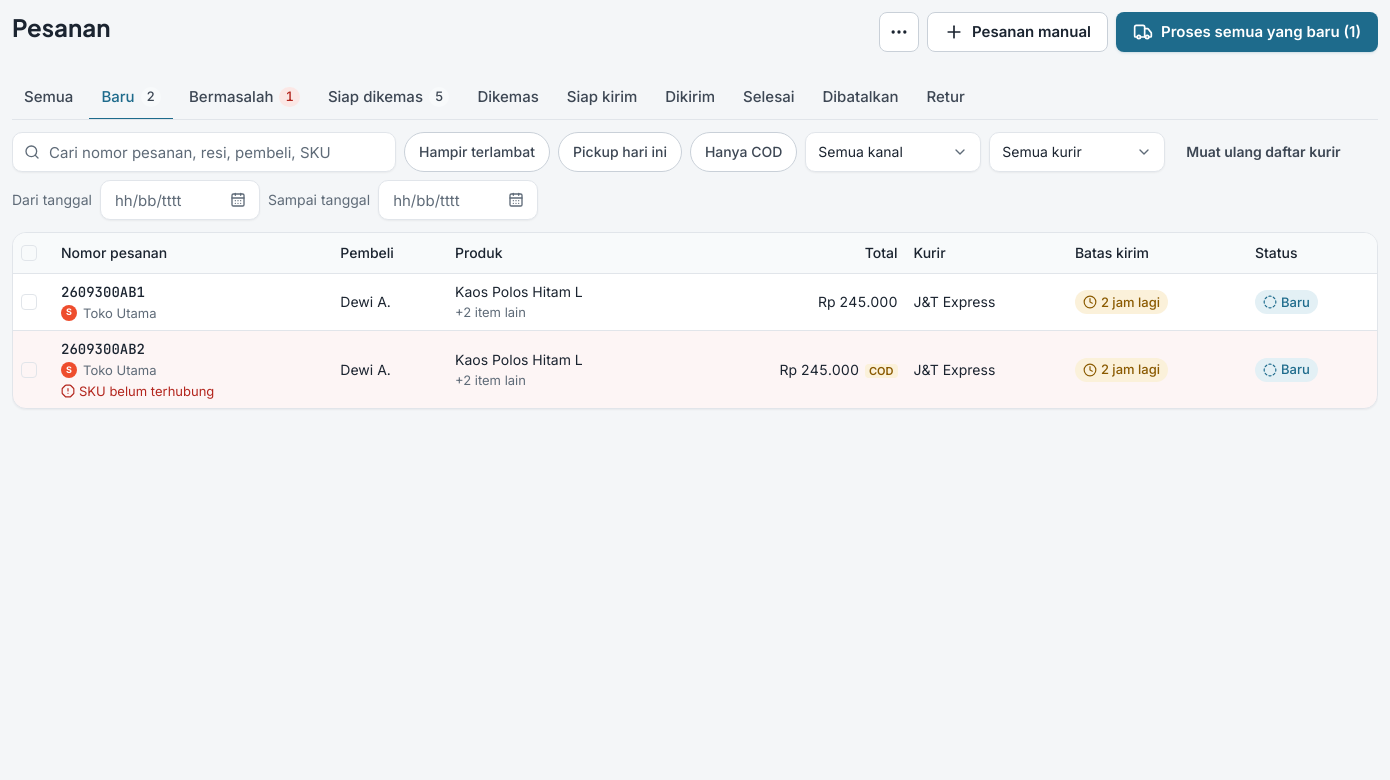
Test case: OrdersView › accepts the selected orders in one request
This screenshot has width=1390, height=780.
Click the checkbox named "Pilih pesanan 2609300AB1".
click(29, 302)  # box [21, 294, 37, 310]
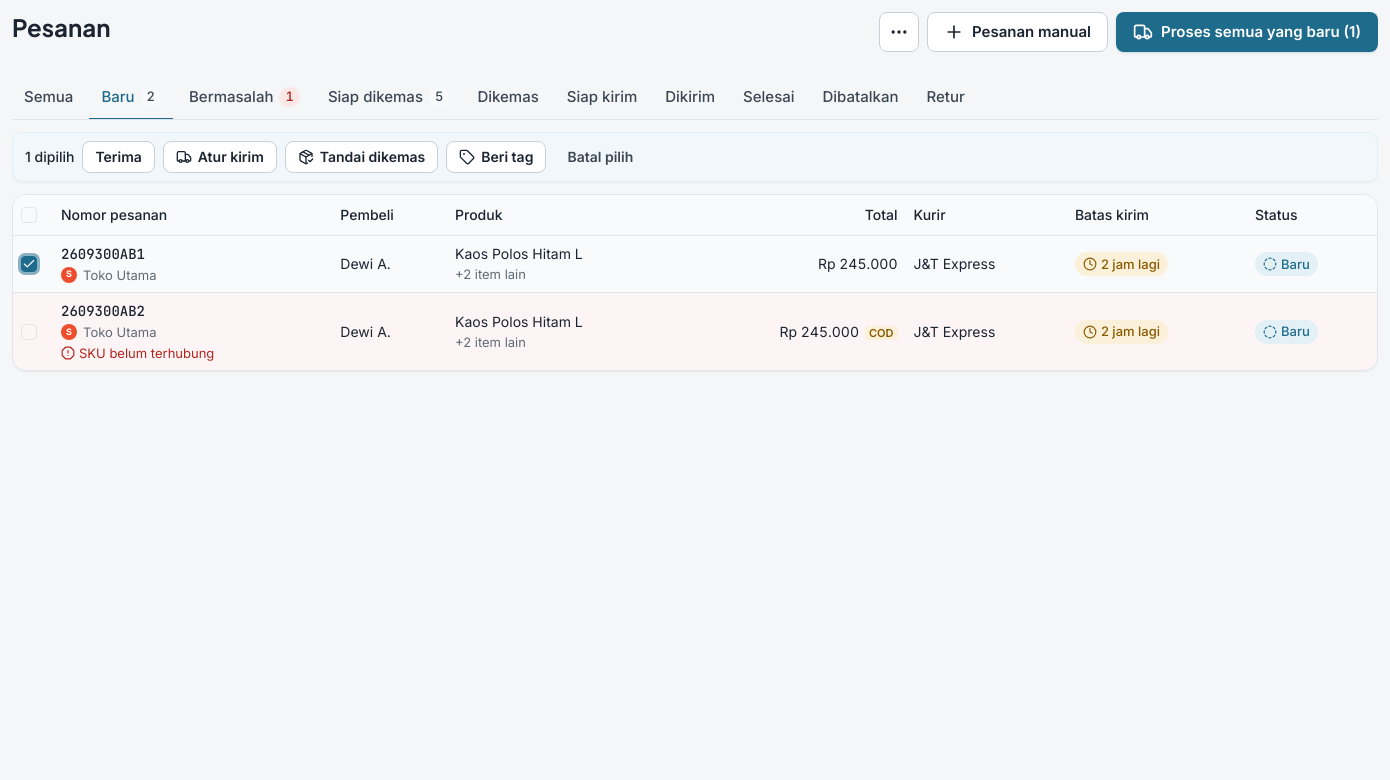
expect the text "1 dipilih" is shown: met, box [25, 147, 74, 167]
Click the button "Terima".
click(119, 157)  # box [82, 141, 155, 173]
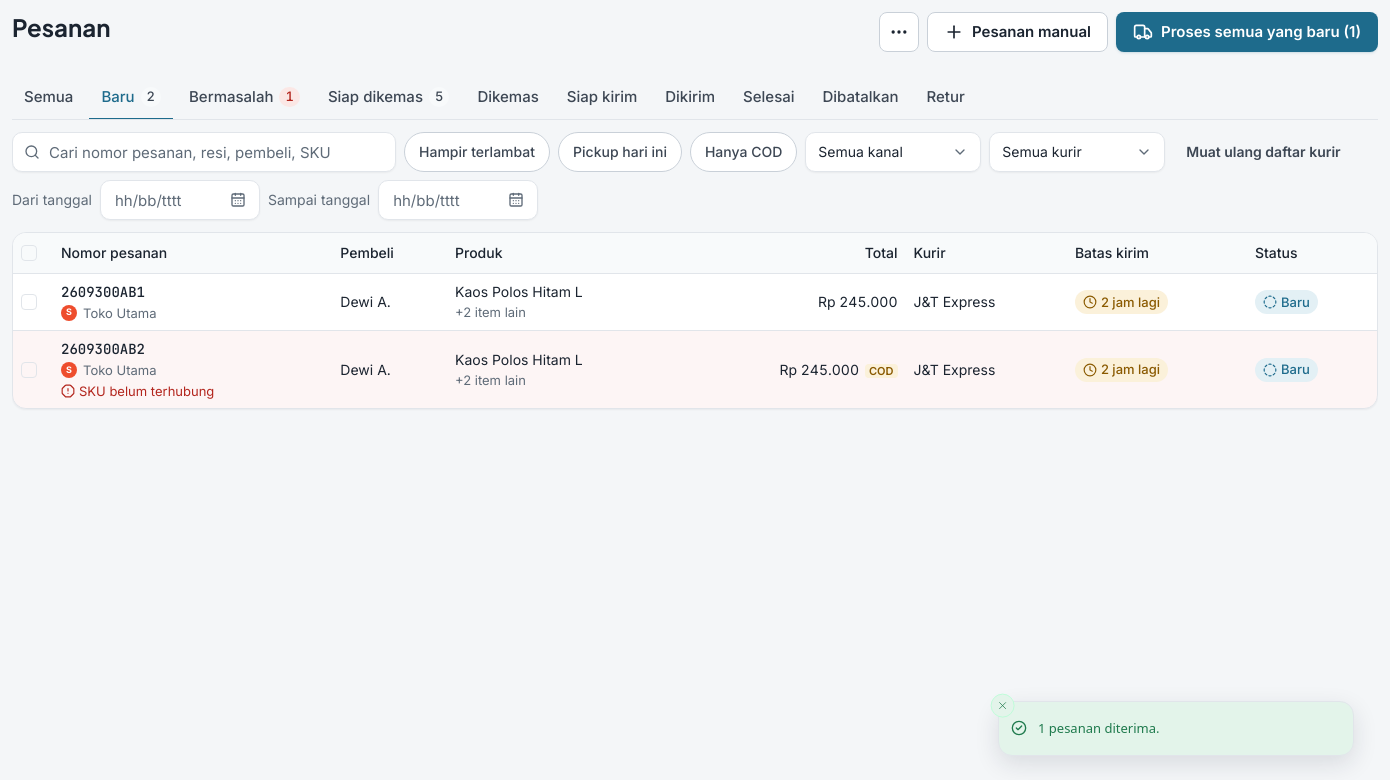
expect the text "1 dipilih" is gone: met
